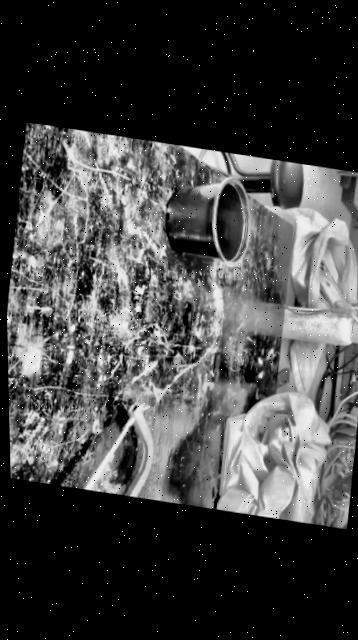pot: (166, 177, 249, 264)
